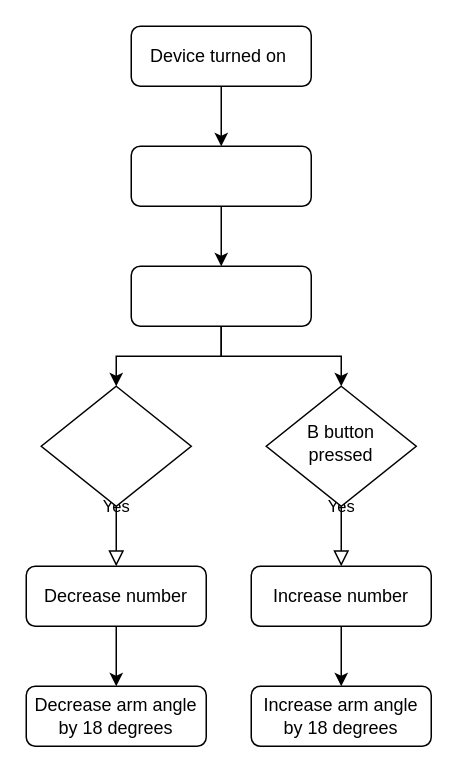
The diagram is 458 pixels wide and 773 high, and some of its shapes have lost their labels. The centre of each missing label's shape, as x and y in pixels:
"A button pressed" belongs at point (115, 445).
"Arrow moves to position 0" belongs at point (220, 295).
"Number 0 displayed on LEDs" belongs at point (220, 175).
